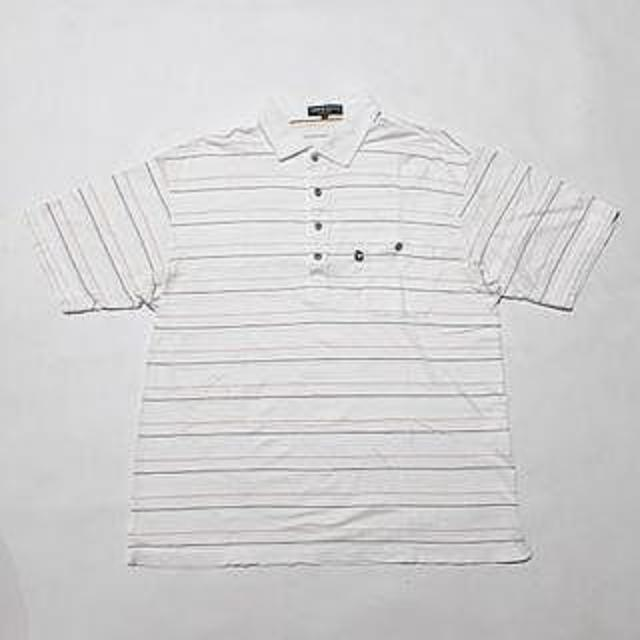T_SHIRT: (14, 84, 640, 580)
